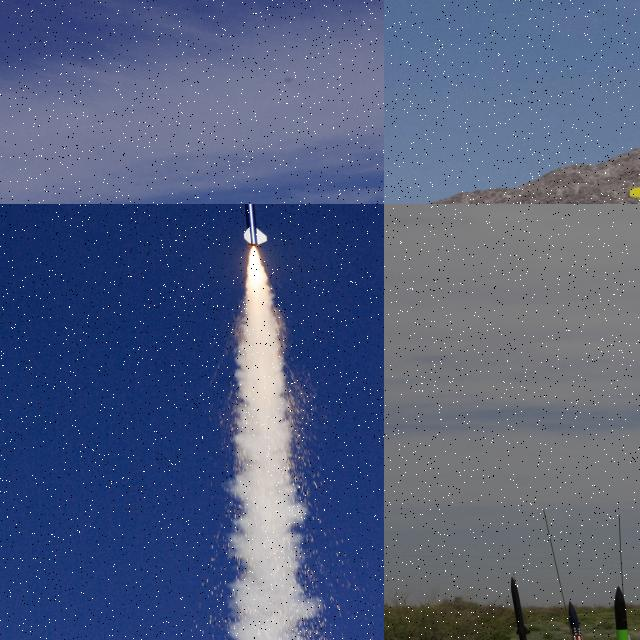Rocket: (510, 576, 544, 640), (627, 45, 640, 204), (608, 585, 640, 640), (567, 600, 601, 640), (241, 204, 267, 248)
